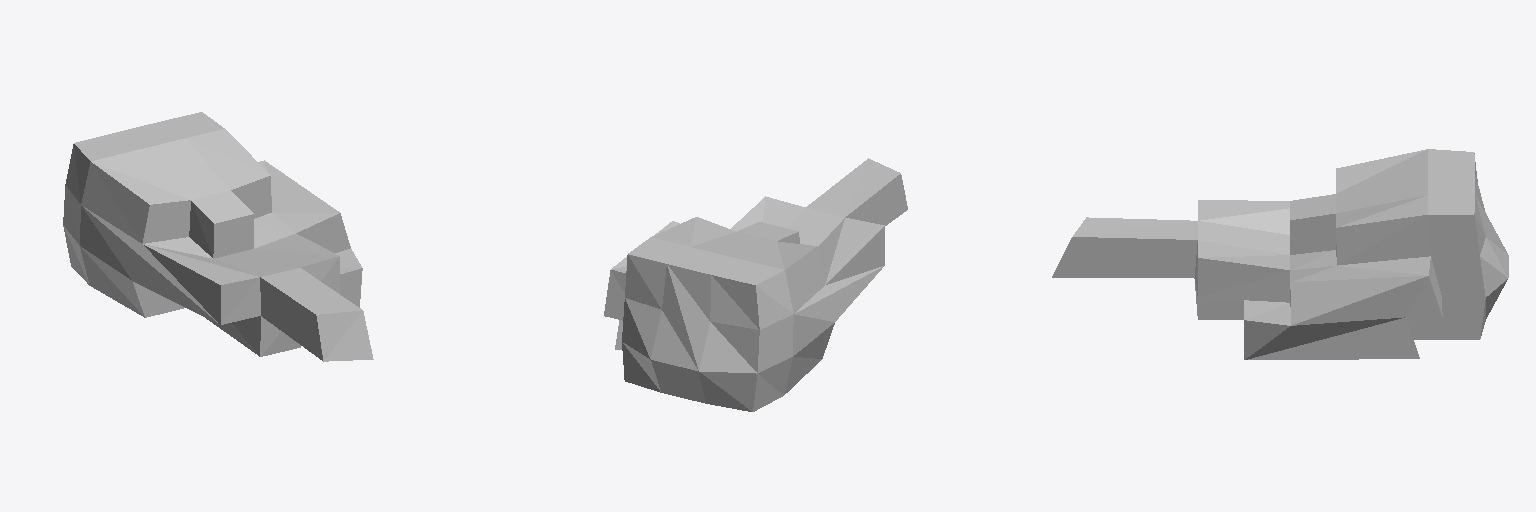
File: Mini-Bot_Shooter_LOD0-0.obj
3 views of the same model, side by side, from view 1: azimuth 30°, elevation 25°; view 2: azimuth 150°, elevation 25°; view 3: azimuth 270°, elevation 25° (orthographic).
Visible parts, largest first — view 1: Mini-Bot_Shooter_LOD0-0; view 2: Mini-Bot_Shooter_LOD0-0; view 3: Mini-Bot_Shooter_LOD0-0.
Part boxes in pixels (bbox=[...]): Mini-Bot_Shooter_LOD0-0: bbox=[63, 112, 373, 361]; Mini-Bot_Shooter_LOD0-0: bbox=[604, 158, 907, 411]; Mini-Bot_Shooter_LOD0-0: bbox=[1052, 149, 1508, 359].
Size of the model in its own units: 0.5052 by 0.3 by 0.9942.